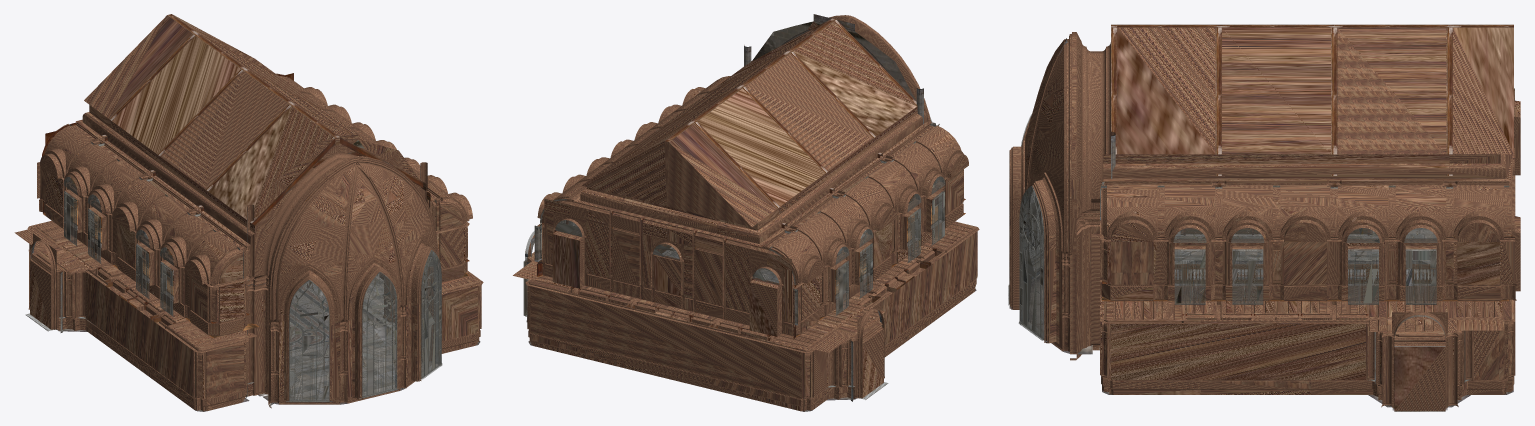
The model's file is library.glb.
3 renders of one model, left to right at view 1: azimuth 30°, elevation 25°; view 2: azimuth 150°, elevation 25°; view 3: azimuth 270°, elevation 25°, orthographic. The views are drawn at different scales.
Visible parts, largest first — view 1: Material2 (×2), Material3 (×9); view 2: Material2 (×2), Material3 (×5); view 3: Material2 (×2), Material3 (×7).
Part boxes in pixels (left/top/right/bottom): Material2 (×2): left=14, top=15, right=483, bottom=411; Material3 (×9): left=30, top=14, right=481, bottom=411; Material2 (×2): left=513, top=15, right=979, bottom=411; Material3 (×5): left=526, top=14, right=965, bottom=401; Material2 (×2): left=1008, top=24, right=1520, bottom=411; Material3 (×7): left=1009, top=25, right=1513, bottom=410.
Bounding box in the file's own units: 4.48 × 3 × 4.82.
19 materials, 18 textured.
